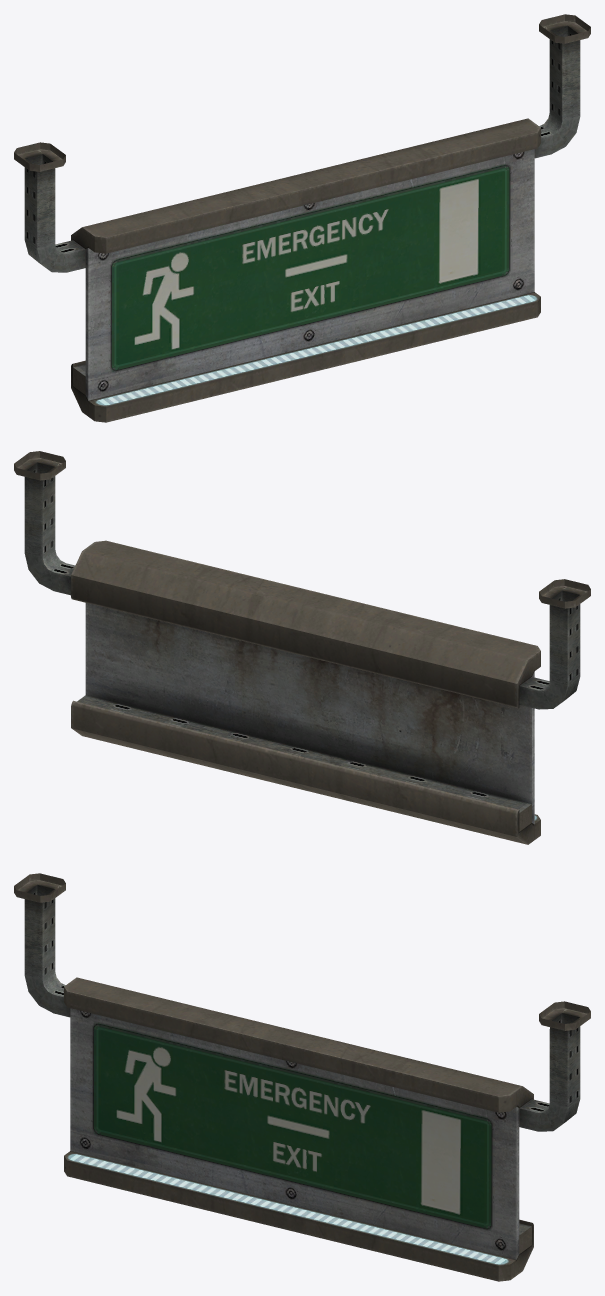
File: sign_emergency_exit_swinging.dae
The picture shows the model from 3 angles, top to bottom: view 1: azimuth 30°, elevation 25°; view 2: azimuth 150°, elevation 25°; view 3: azimuth 330°, elevation 25°; orthographic projection.
Parts seen in each view (by area): view 1: sign, support; view 2: sign, support; view 3: sign, support.
Boxes of the visible parts, <box> form: sign: <box>71,118,540,422</box>; support: <box>14,14,590,272</box>; sign: <box>71,540,540,844</box>; support: <box>14,451,590,709</box>; sign: <box>64,977,533,1281</box>; support: <box>14,873,590,1131</box>.
Size of the model in its own units: 1.26 by 0.5697 by 0.1205.
